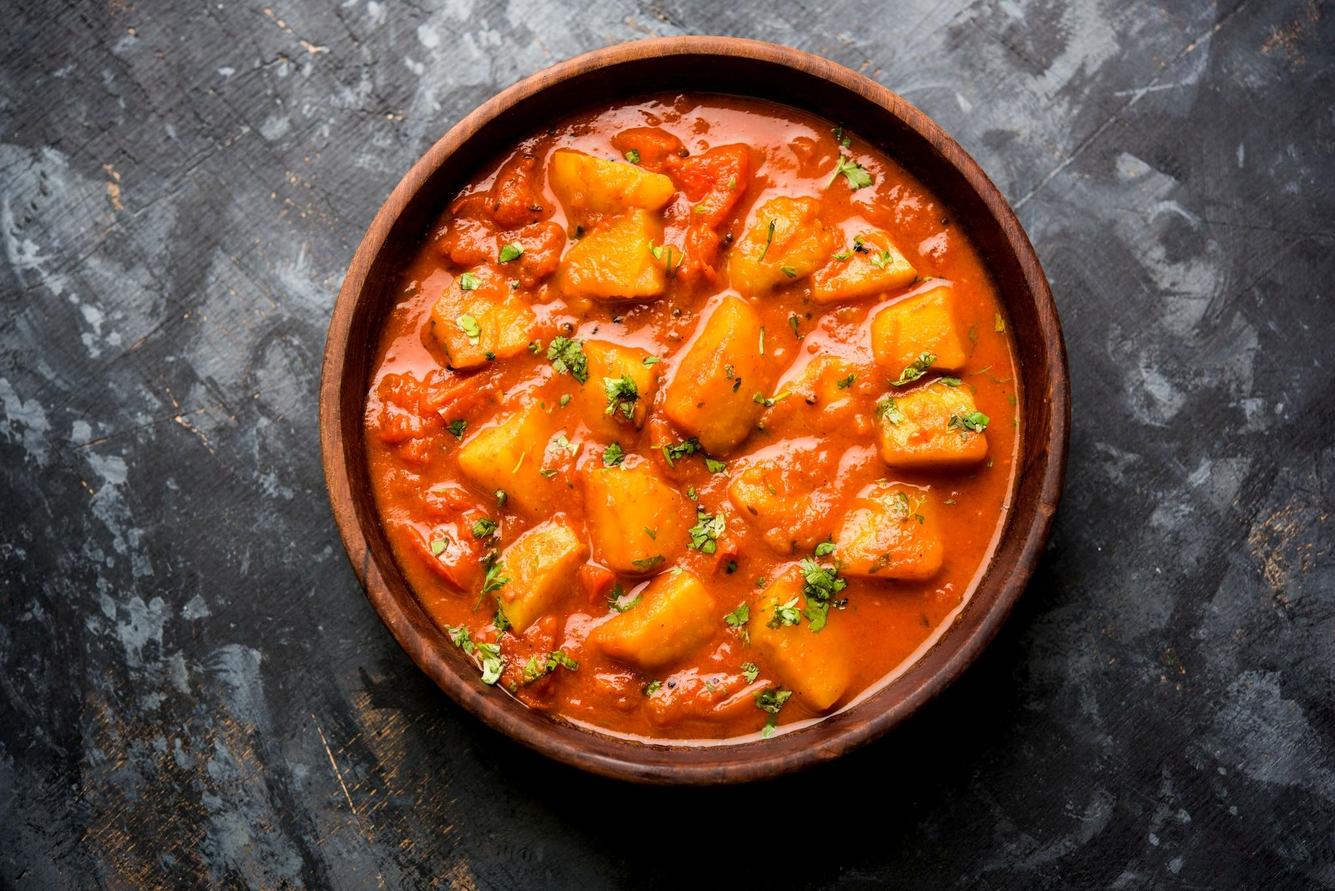aloo sabji: (390, 153, 984, 711)
